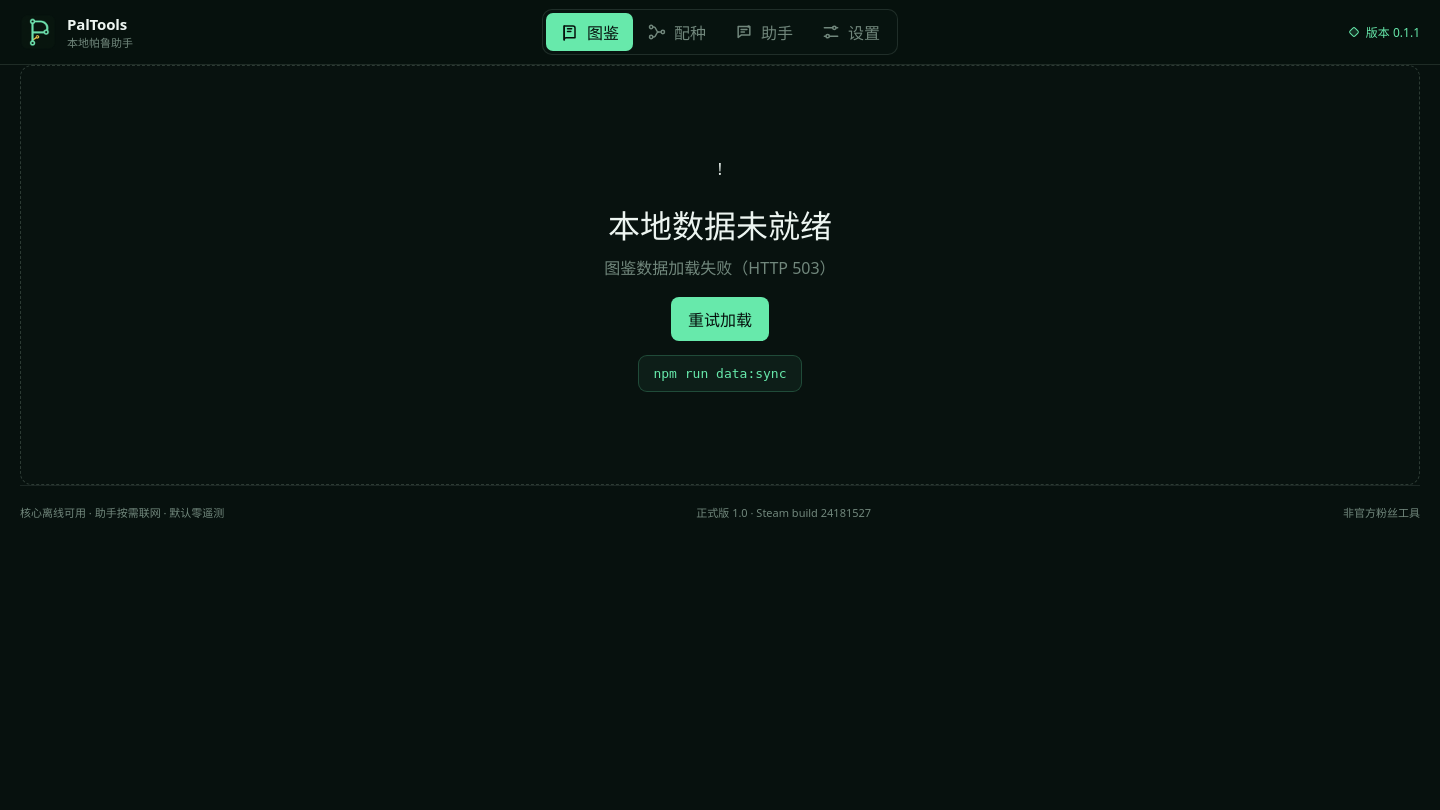
Test: App › offers an accessible retry when catalog data fails and clears the error after success
Expected: the message shows "HTTP 503", [604, 257, 836, 279]
Click the button "重试加载": [720, 319] box [671, 297, 769, 341]
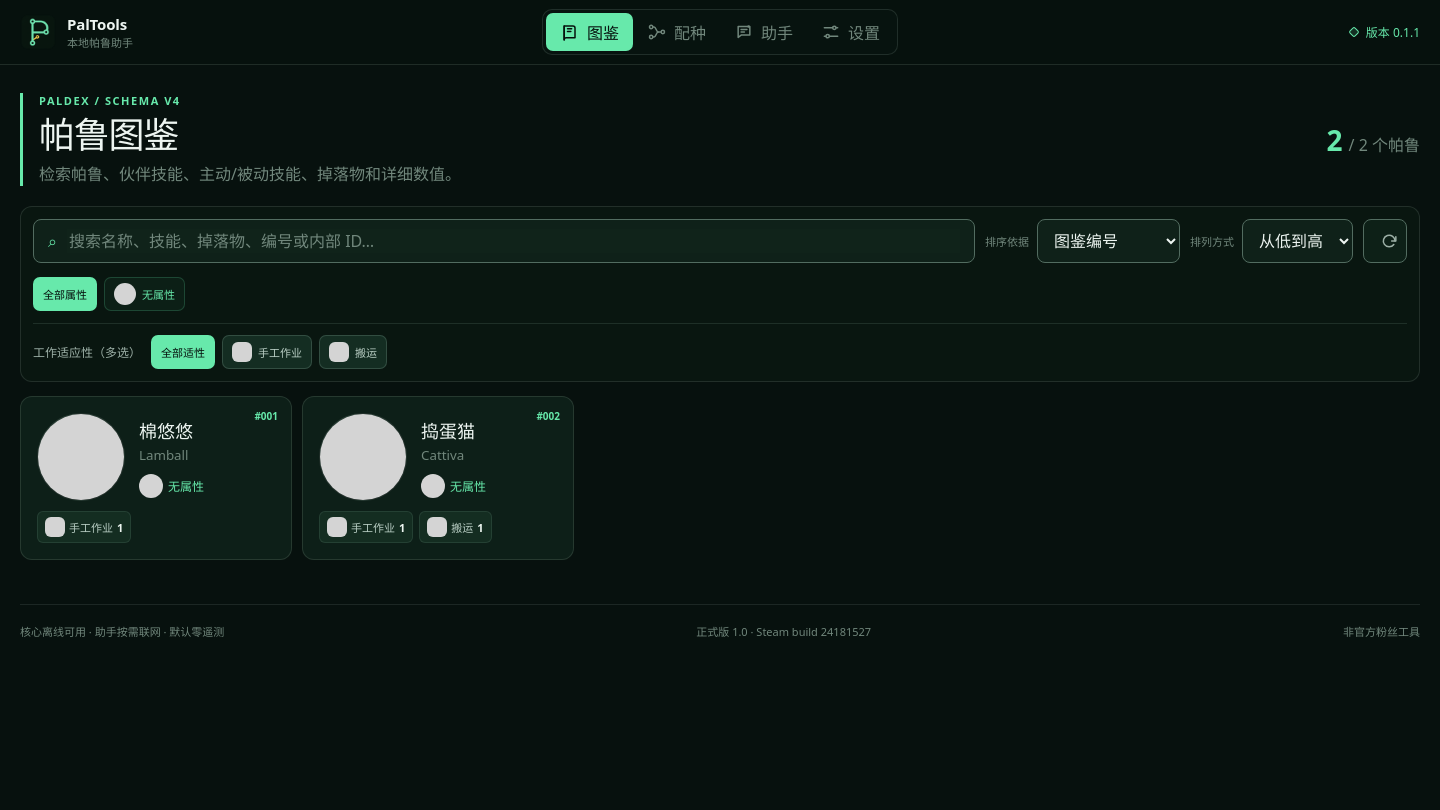
Now the text "棉悠悠" is shown, box [139, 419, 193, 443]
Now the heading "本地数据未就绪" is gone
